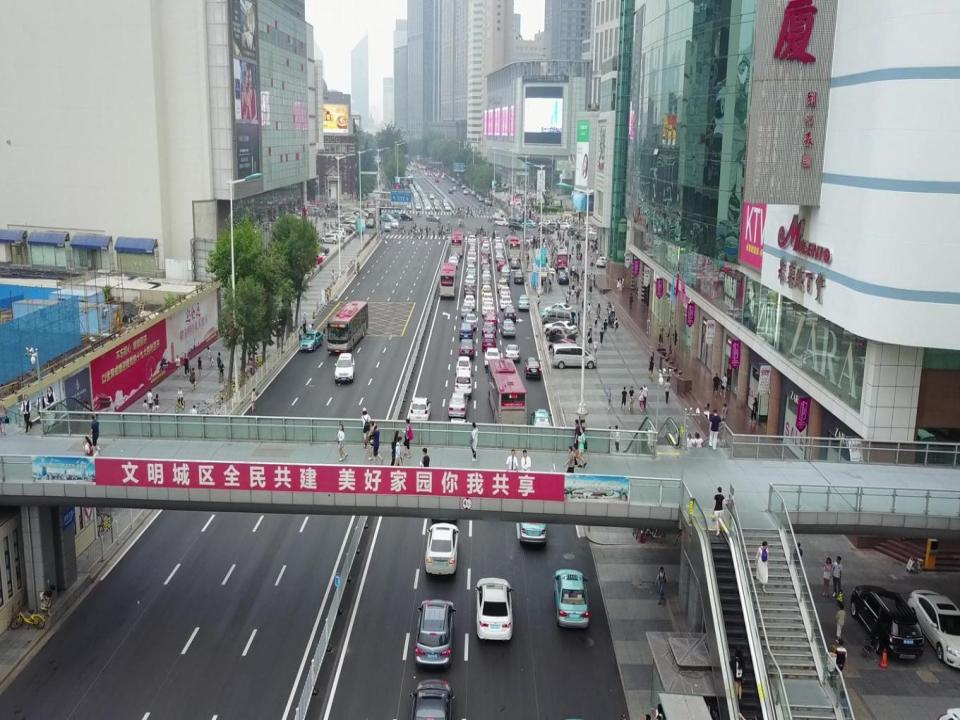bus: (485, 358, 527, 437), (327, 299, 368, 354), (439, 262, 456, 298), (450, 230, 466, 258), (506, 234, 521, 262)
car: (851, 583, 924, 659), (906, 588, 956, 668), (415, 599, 455, 667), (474, 578, 514, 641), (553, 569, 589, 628), (408, 678, 454, 720), (425, 522, 460, 576), (517, 494, 547, 545), (530, 408, 554, 436), (544, 319, 578, 337), (334, 353, 354, 383), (454, 369, 474, 399), (448, 391, 468, 419), (410, 397, 432, 422), (548, 337, 578, 355), (300, 330, 324, 350), (523, 356, 542, 379), (545, 301, 572, 317), (546, 326, 575, 340), (483, 348, 502, 366), (481, 320, 497, 341), (504, 344, 522, 362), (460, 338, 476, 358), (499, 318, 515, 338), (299, 252, 323, 264), (458, 322, 474, 339), (456, 356, 472, 373), (482, 333, 496, 352), (464, 314, 477, 332), (310, 243, 329, 255), (462, 294, 476, 310), (482, 300, 496, 316), (484, 312, 498, 328), (503, 305, 517, 321), (499, 294, 513, 308), (518, 294, 530, 310), (320, 233, 338, 243), (557, 269, 569, 283), (465, 268, 477, 282), (464, 282, 476, 296), (461, 303, 473, 317), (513, 269, 525, 283), (499, 286, 512, 298), (482, 284, 494, 296), (482, 293, 494, 305), (496, 278, 508, 290), (499, 272, 510, 285), (481, 248, 491, 262), (501, 264, 511, 278), (447, 257, 458, 269), (464, 276, 476, 287), (481, 278, 492, 290), (399, 212, 414, 220), (450, 250, 460, 262), (466, 252, 476, 264), (482, 269, 492, 281), (426, 214, 442, 221), (366, 217, 376, 228), (465, 259, 476, 269), (466, 264, 476, 275), (481, 263, 492, 273), (497, 259, 507, 270), (511, 257, 520, 269), (466, 248, 476, 258), (480, 257, 490, 267), (494, 242, 503, 253), (308, 323, 314, 339), (383, 221, 391, 232), (367, 212, 378, 220), (380, 214, 392, 221), (467, 235, 476, 244), (481, 240, 490, 249), (481, 234, 489, 244), (496, 247, 504, 257), (496, 252, 504, 262), (391, 219, 399, 228), (468, 244, 477, 252), (481, 245, 490, 253), (494, 236, 501, 246), (391, 211, 402, 217), (468, 240, 476, 247)
van: (550, 344, 596, 368), (542, 308, 577, 328)
